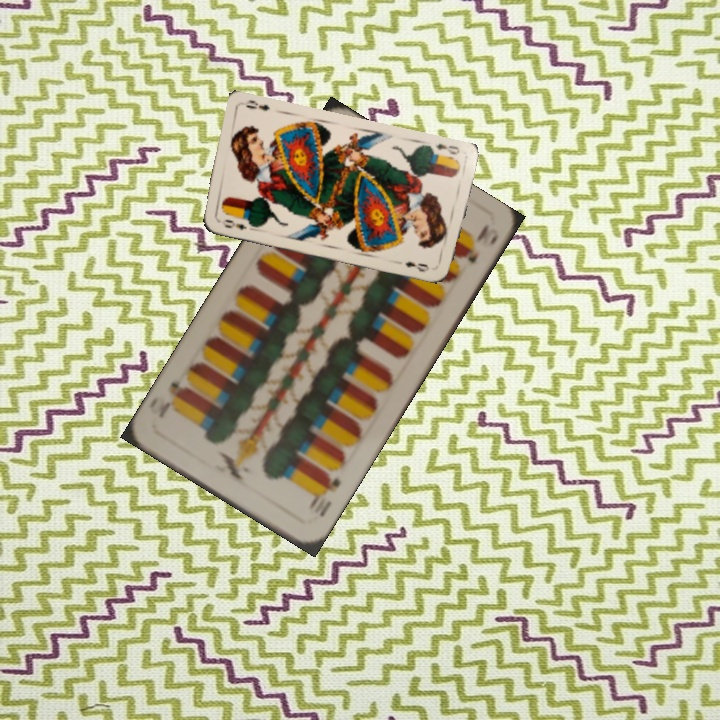E10: (304, 470, 344, 520)
EO: (220, 215, 250, 233), (432, 139, 462, 157)
